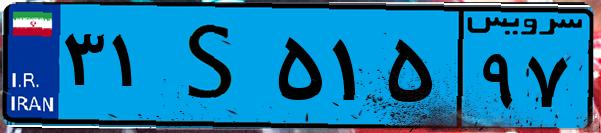1: (330, 28, 385, 110), (110, 28, 158, 98)
3: (57, 26, 110, 100)
5: (270, 28, 330, 110), (385, 28, 445, 110)
7: (525, 38, 570, 115)
9: (475, 38, 525, 113)
S: (158, 12, 270, 120)
